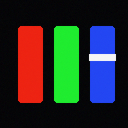3 line_h: (89, 54, 115, 60)
